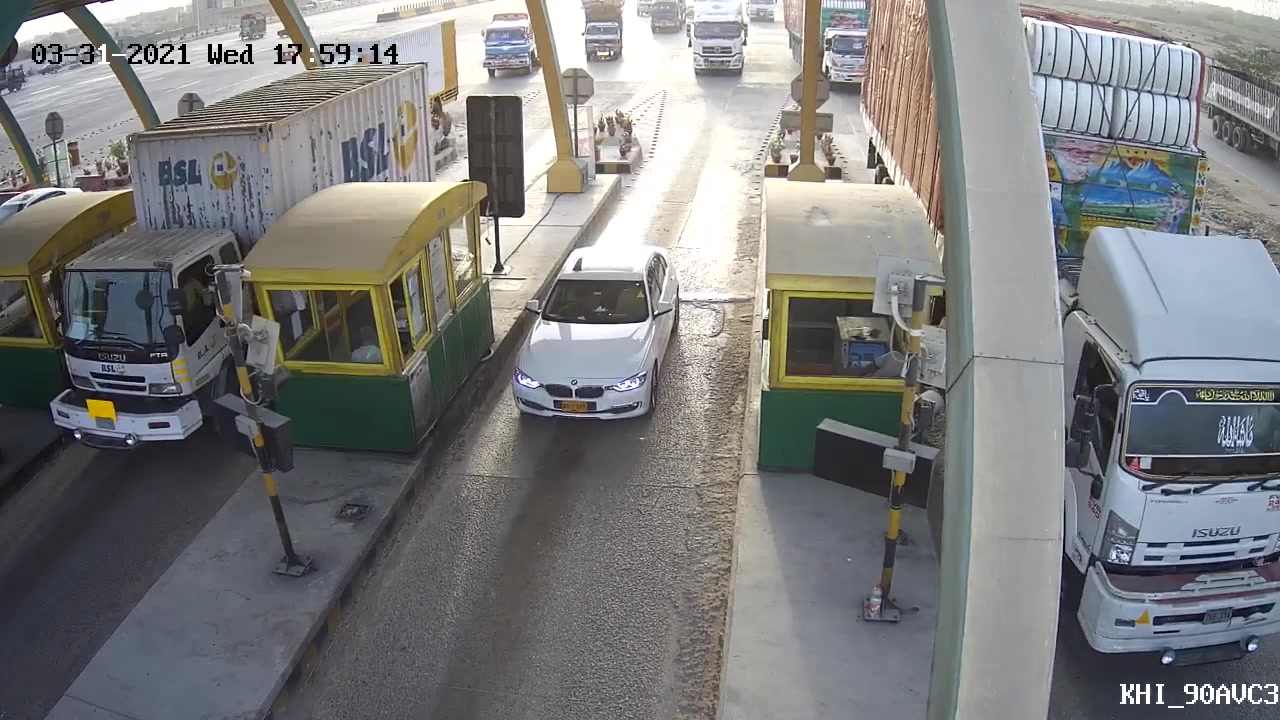F1: (500, 243, 691, 433)
